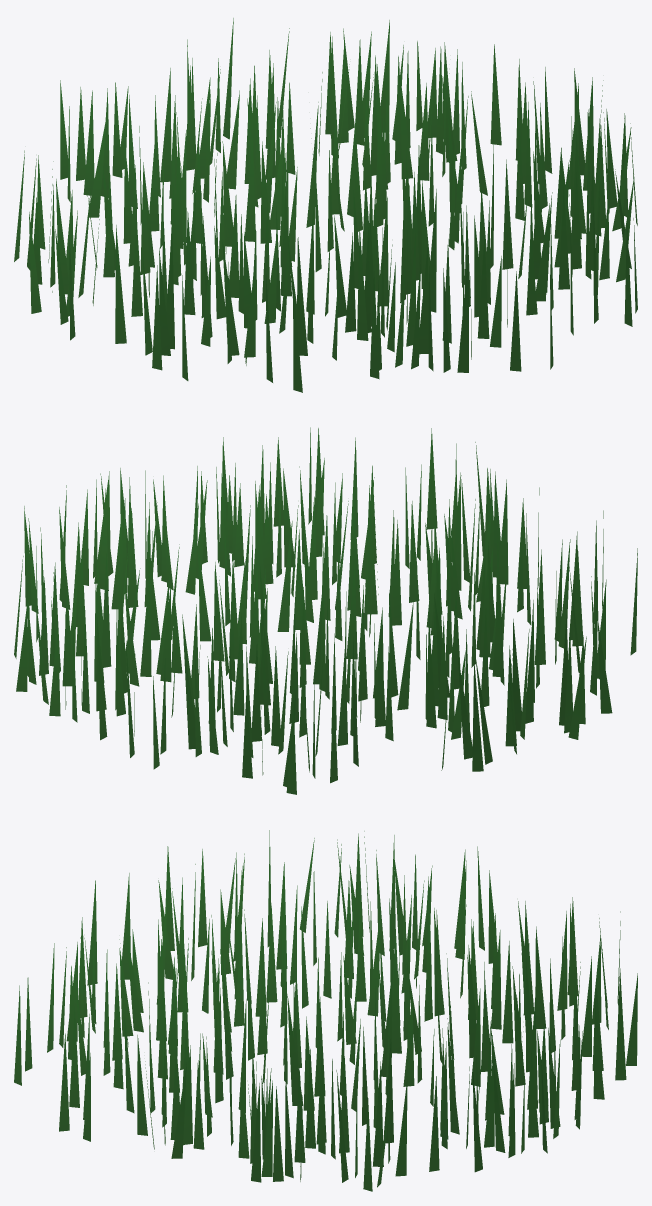
File: GrassField.fbx
3 renders of one model, top to bottom at view 1: azimuth 30°, elevation 25°; view 2: azimuth 150°, elevation 25°; view 3: azimuth 270°, elevation 25°, orthographic. The views are drawn at different scales.
Visible parts, largest first — view 1: GrassField; view 2: GrassField; view 3: GrassField.
Boxes of the visible parts, x1,y1,x2,y2 form: GrassField: (14,18,637,392); GrassField: (14,427,637,794); GrassField: (14,830,637,1191).
Bounding box in the file's own units: 8.87 × 1.82 × 8.73.
